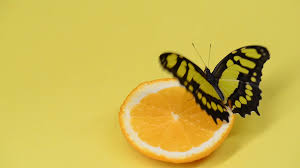Butterfly: (156, 42, 273, 123)
